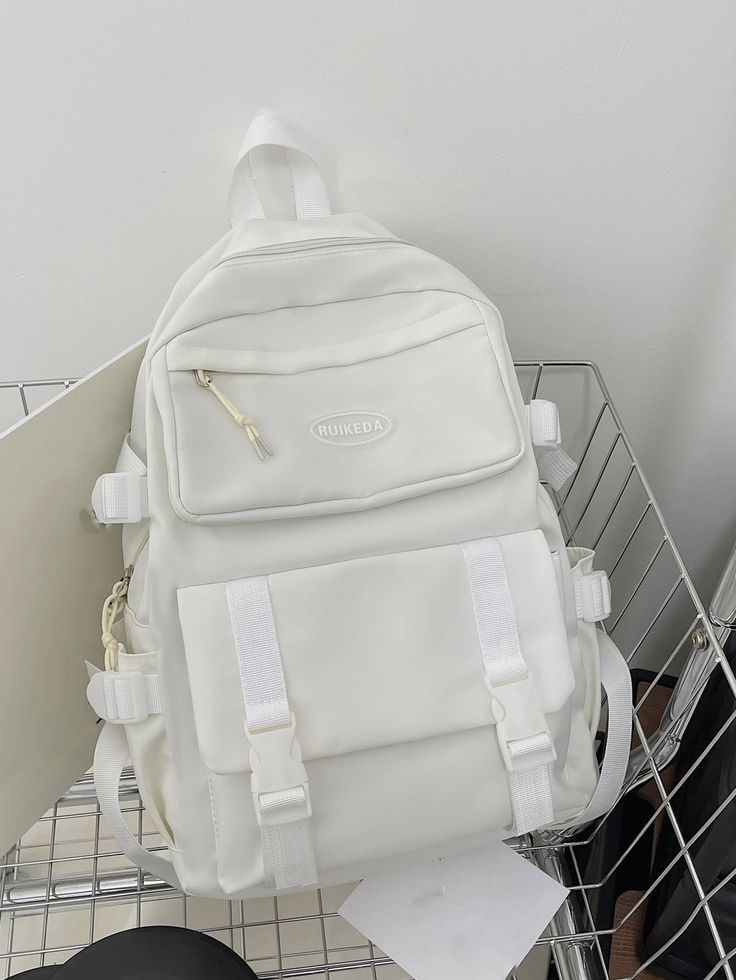nylon: (85, 108, 634, 899)
